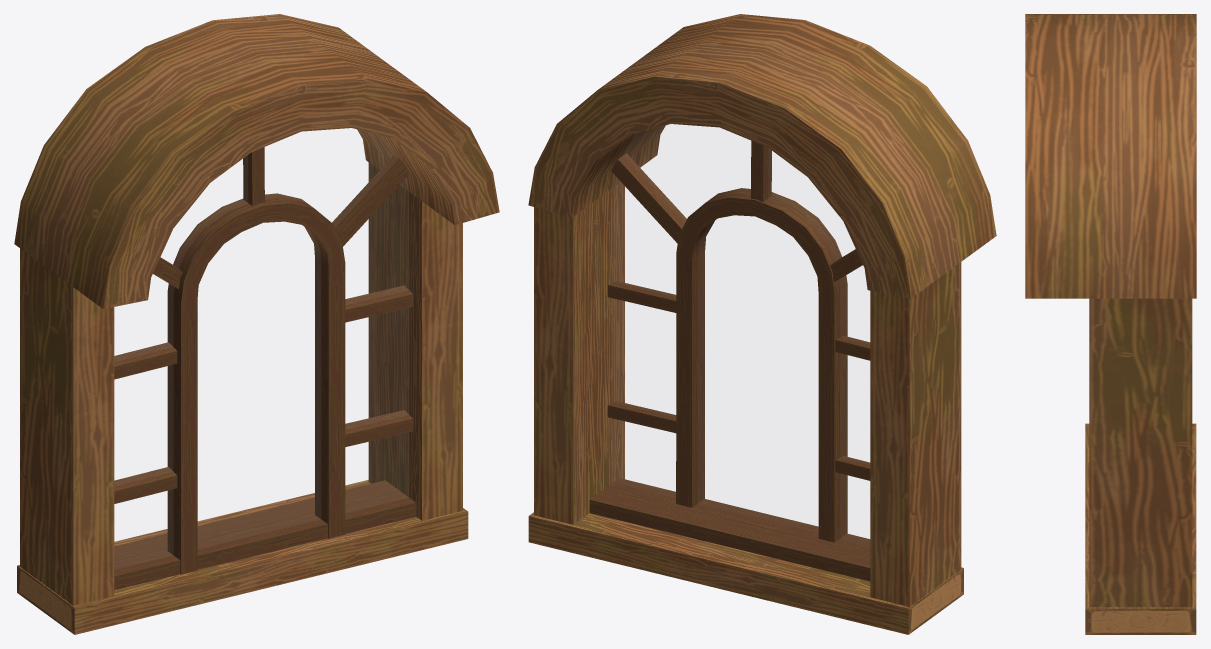
Rendered from Window_Wide_Round1.gltf.
3 views of the same model, side by side, from view 1: azimuth 30°, elevation 25°; view 2: azimuth 150°, elevation 25°; view 3: azimuth 270°, elevation 25° (orthographic). The views are drawn at different scales.
Visible parts, largest first — view 1: Window_Wide_Round1; view 2: Window_Wide_Round1; view 3: Window_Wide_Round1.
Part boxes in pixels (<box>): Window_Wide_Round1: <box>14,14,499,634</box>; Window_Wide_Round1: <box>528,14,996,634</box>; Window_Wide_Round1: <box>1025,14,1196,634</box>.
Size of the model in its own units: 1.36 by 1.73 by 0.5296.
Materials: 2 (1 with a texture image).
